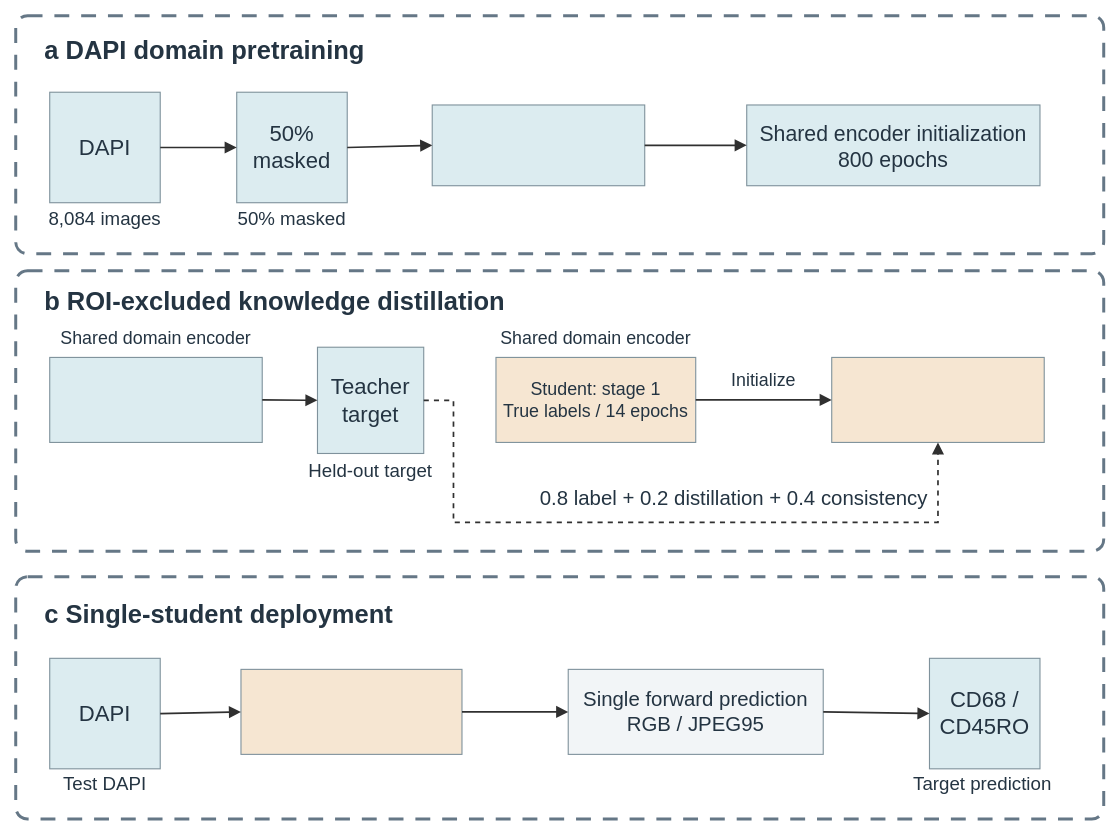
This 1120x836 diagram has some shape labels left out. Here are the shapes that lost their labels. From the top down, the centre of each, then its label:
At pixel 538 145: "FCMAE Masked reconstruction".
At pixel 155 399: "Five ROI-held-out teachers 14 + 3 epochs".
At pixel 937 399: "Student: stage 2 Distill + consistency 12 epochs".
At pixel 351 711: "One fixed student DAPI + target marker".
